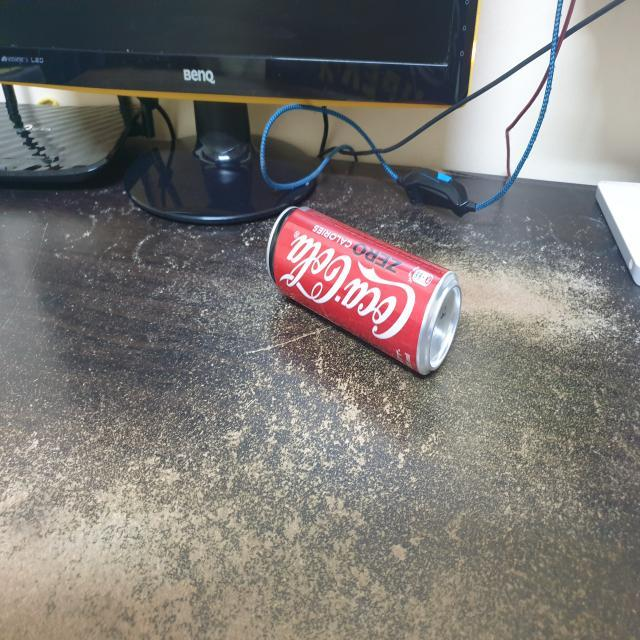can: (267, 204, 462, 378)
